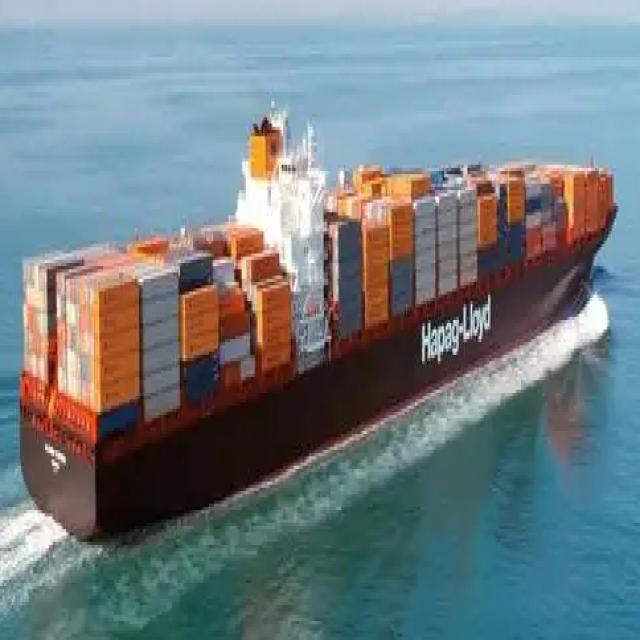cargoship: (16, 94, 623, 534)
